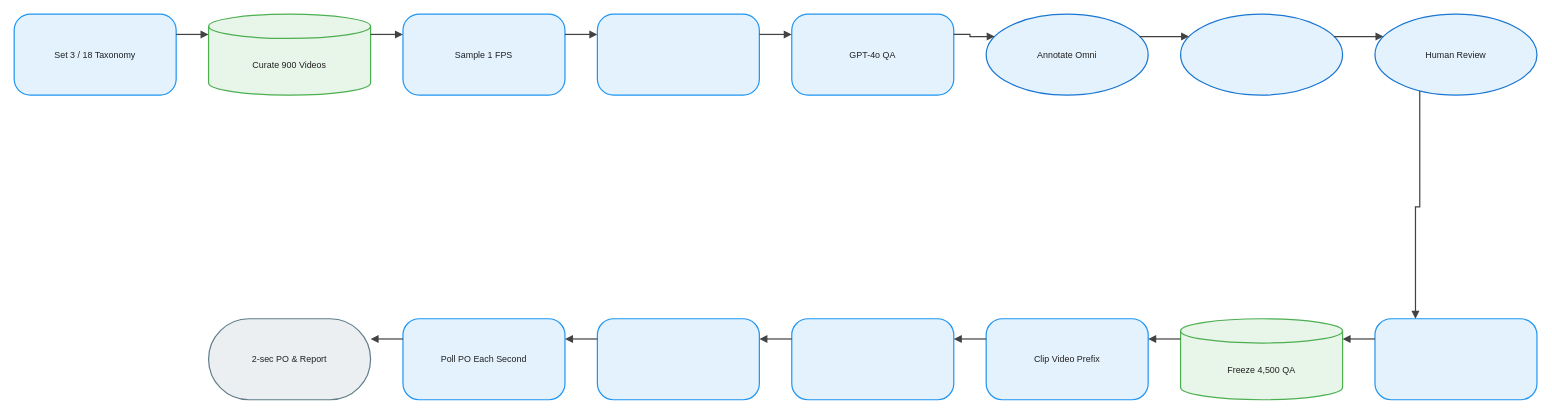
The diagram is 1552 pixels wide and 415 high, and some of its shapes have lost their labels. Here are the shapes that lost their labels. From the top down, the centre of each, then its label:
pixel 678 54: Caption 20 Frames
pixel 1261 54: Annotate Context
pixel 678 359: MC Accuracy
pixel 872 359: Add SQA History
pixel 1455 359: Repair & Filter
